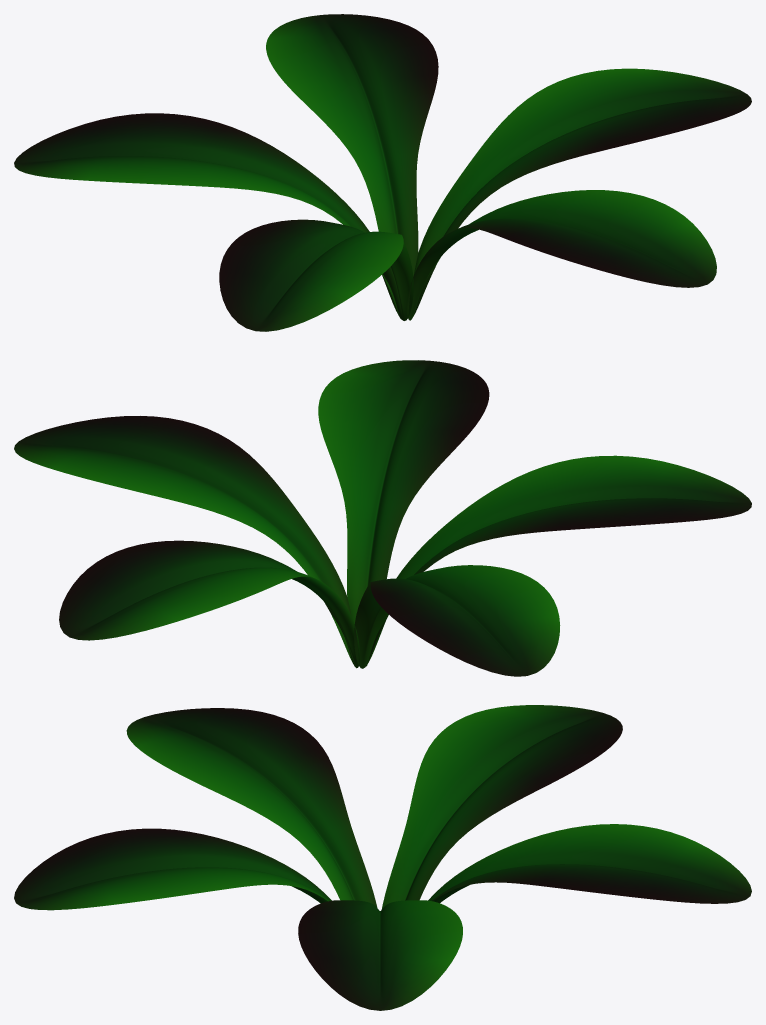
File: SimplePlant.fbx
The picture shows the model from 3 angles, top to bottom: view 1: azimuth 30°, elevation 25°; view 2: azimuth 150°, elevation 25°; view 3: azimuth 270°, elevation 25°; orthographic projection.
Parts seen in each view (by area): view 1: LeavesPhase1; view 2: LeavesPhase1; view 3: LeavesPhase1.
Part boxes in pixels (<box>): LeavesPhase1: <box>14,14,751,331</box>; LeavesPhase1: <box>14,360,751,676</box>; LeavesPhase1: <box>14,705,751,1010</box>.
Bounding box in the file's own units: 416 × 102 × 431.
